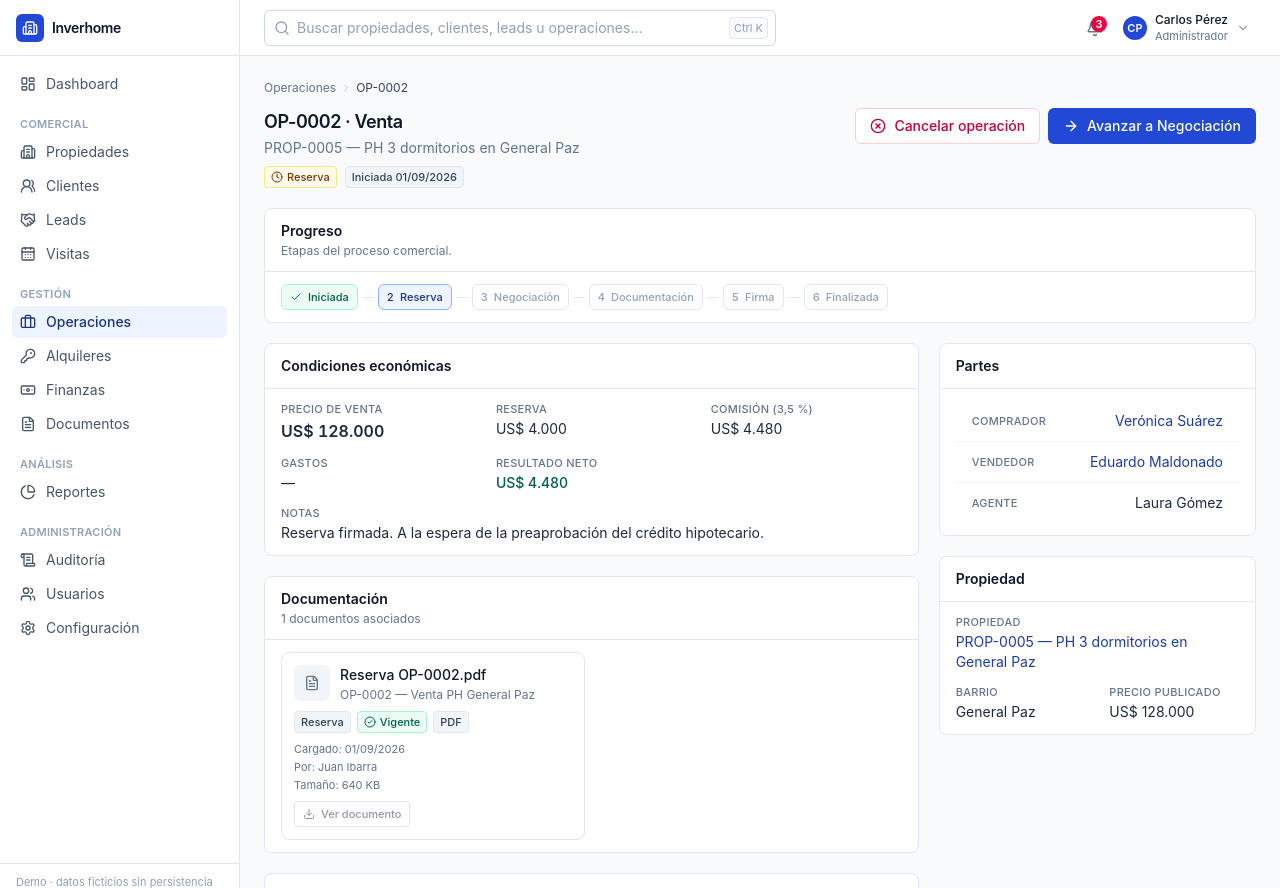
Test: Operaciones › avanza el estado de la operación
expect the heading "OP-0002 · Venta" is shown: met, box [264, 111, 403, 132]
Click the button "Avanzar a Negociación" at (1152, 126), box [1048, 108, 1256, 144]
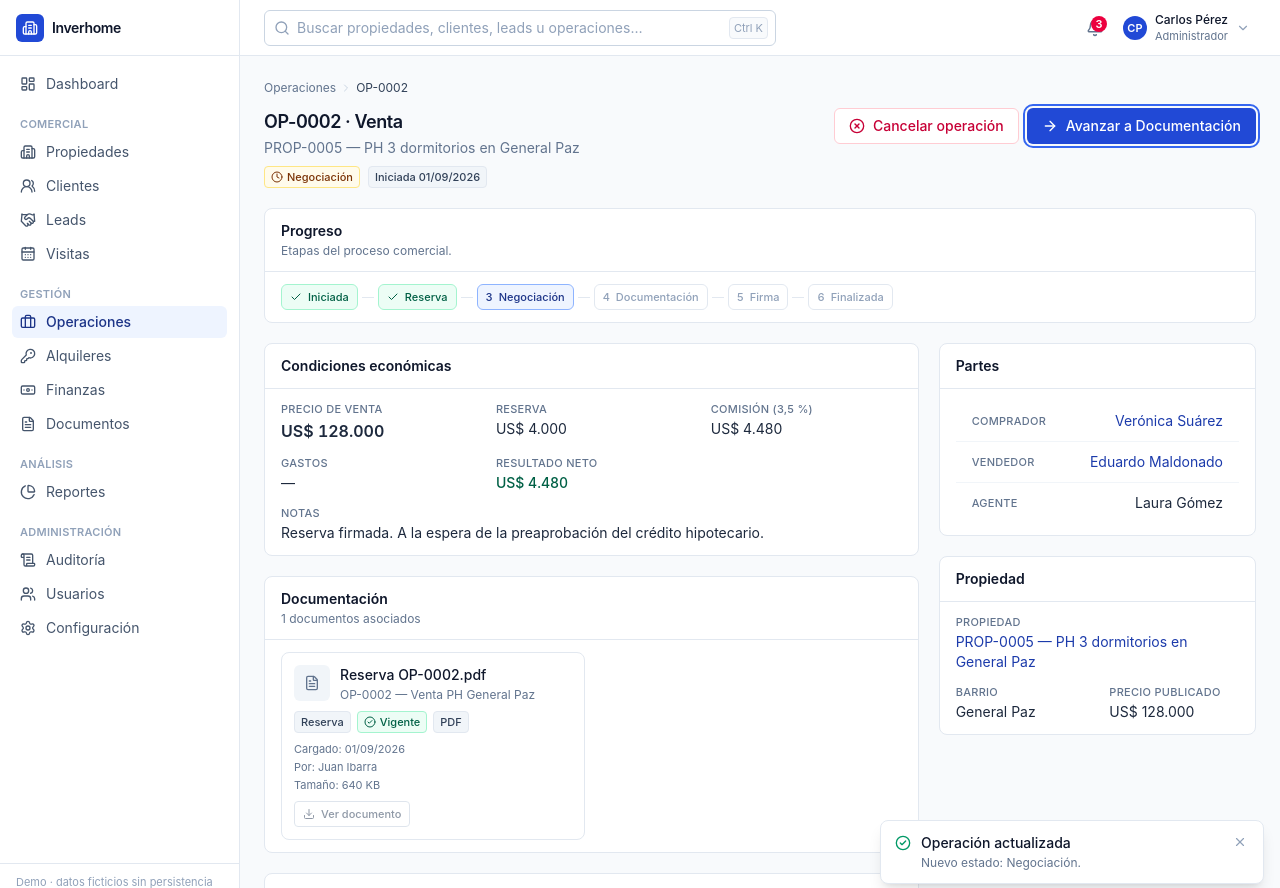
expect the text "Progreso" is shown: met, box [281, 222, 342, 239]
expect the message shows "Operación actualizada": met, box [921, 834, 1071, 851]
expect the button "Avanzar a Documentación" is shown: met, box [1027, 108, 1256, 144]
